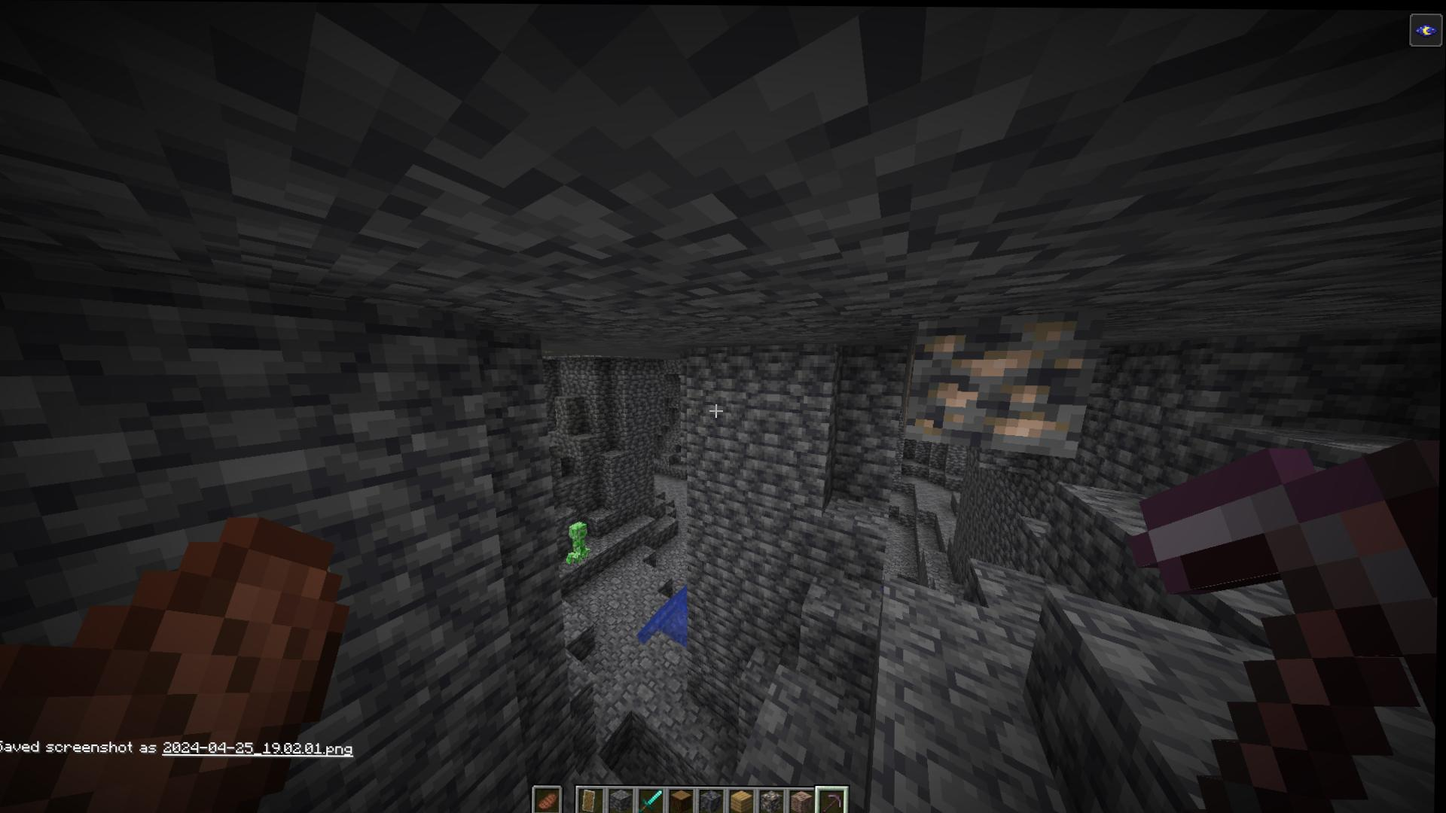iron ore: (910, 315, 1092, 455)
